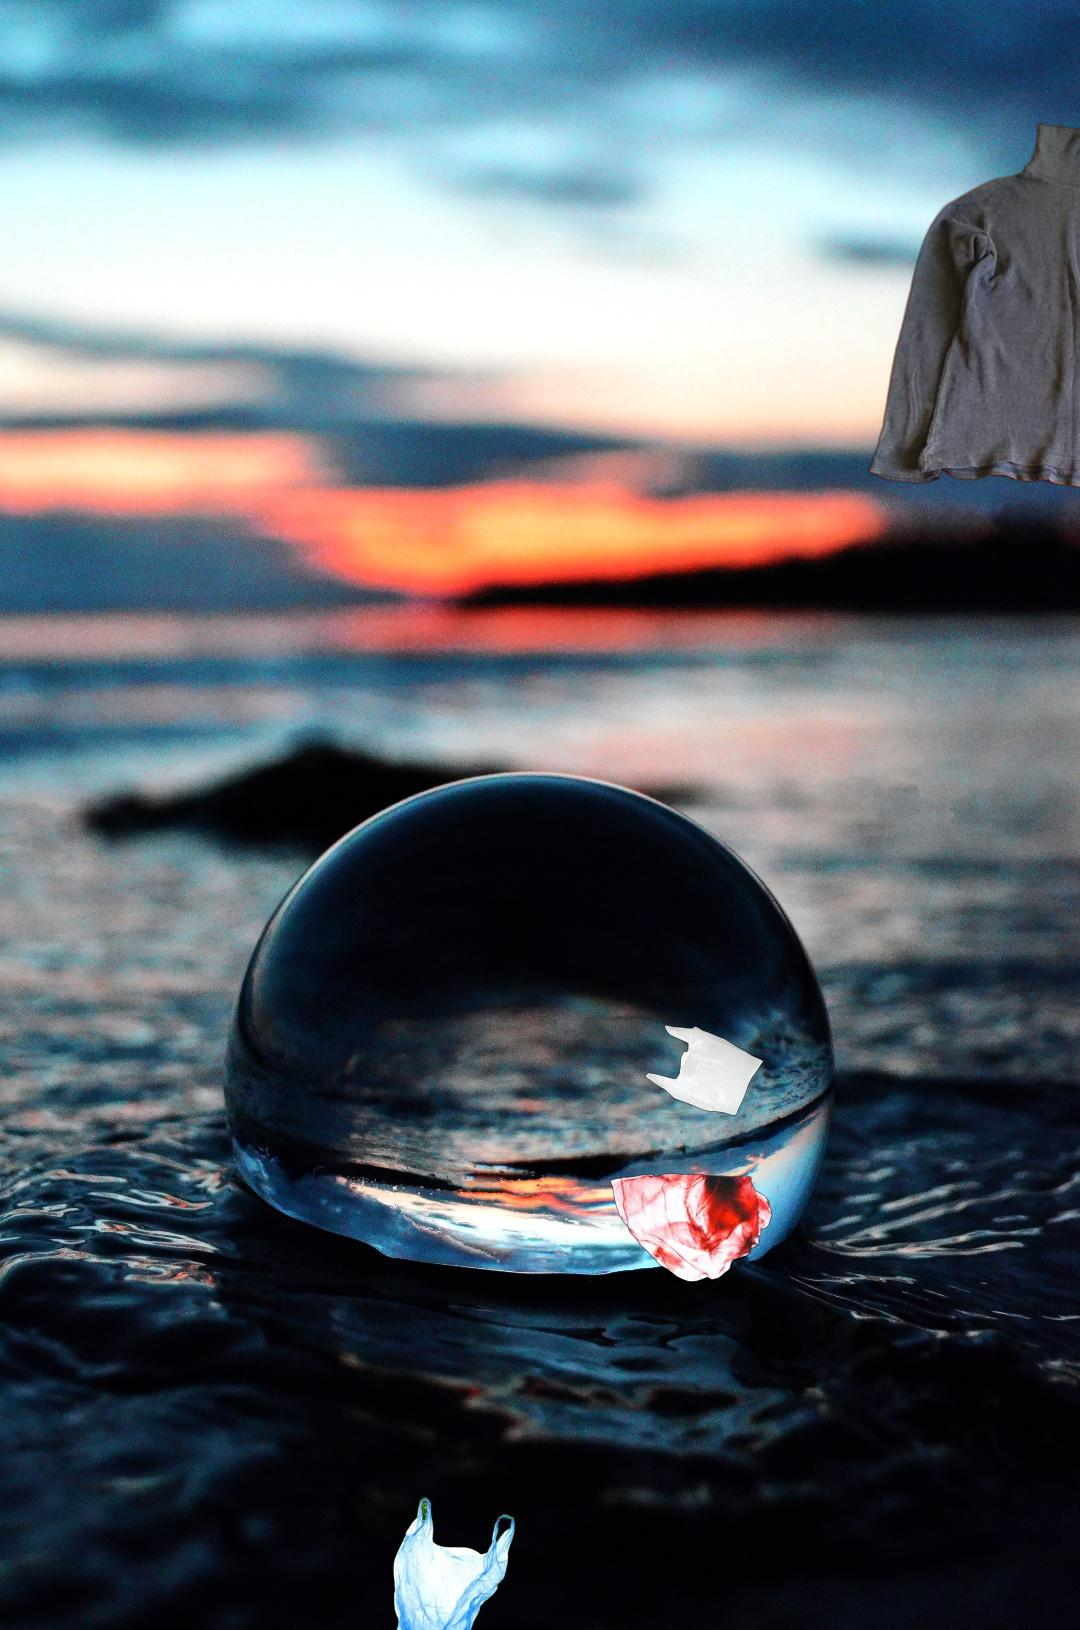biological: (890, 298, 1080, 465)
clothes: (864, 118, 1080, 504)
plastic-bag: (607, 1022, 775, 1285), (391, 1493, 518, 1630)
